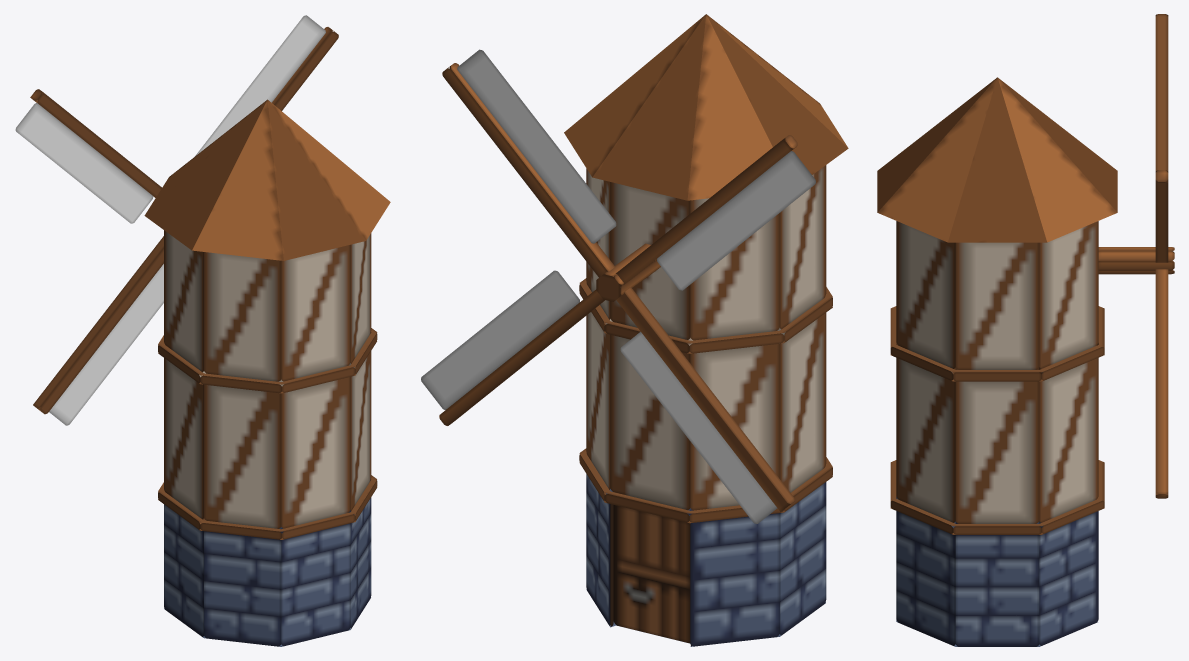
File: mill.fbx
3 renders of one model, left to right at view 1: azimuth 30°, elevation 25°; view 2: azimuth 150°, elevation 25°; view 3: azimuth 270°, elevation 25°, orthographic. The views are drawn at different scales.
Visible parts, largest first — view 1: cylinder; view 2: cylinder; view 3: cylinder.
Part boxes in pixels (box(x1,y1,x2,y2)): cylinder: box(15, 15, 390, 646); cylinder: box(421, 14, 848, 646); cylinder: box(877, 14, 1174, 646).
Size of the model in its own units: 206 by 288 by 147.
Materials: 1 (1 with a texture image).
